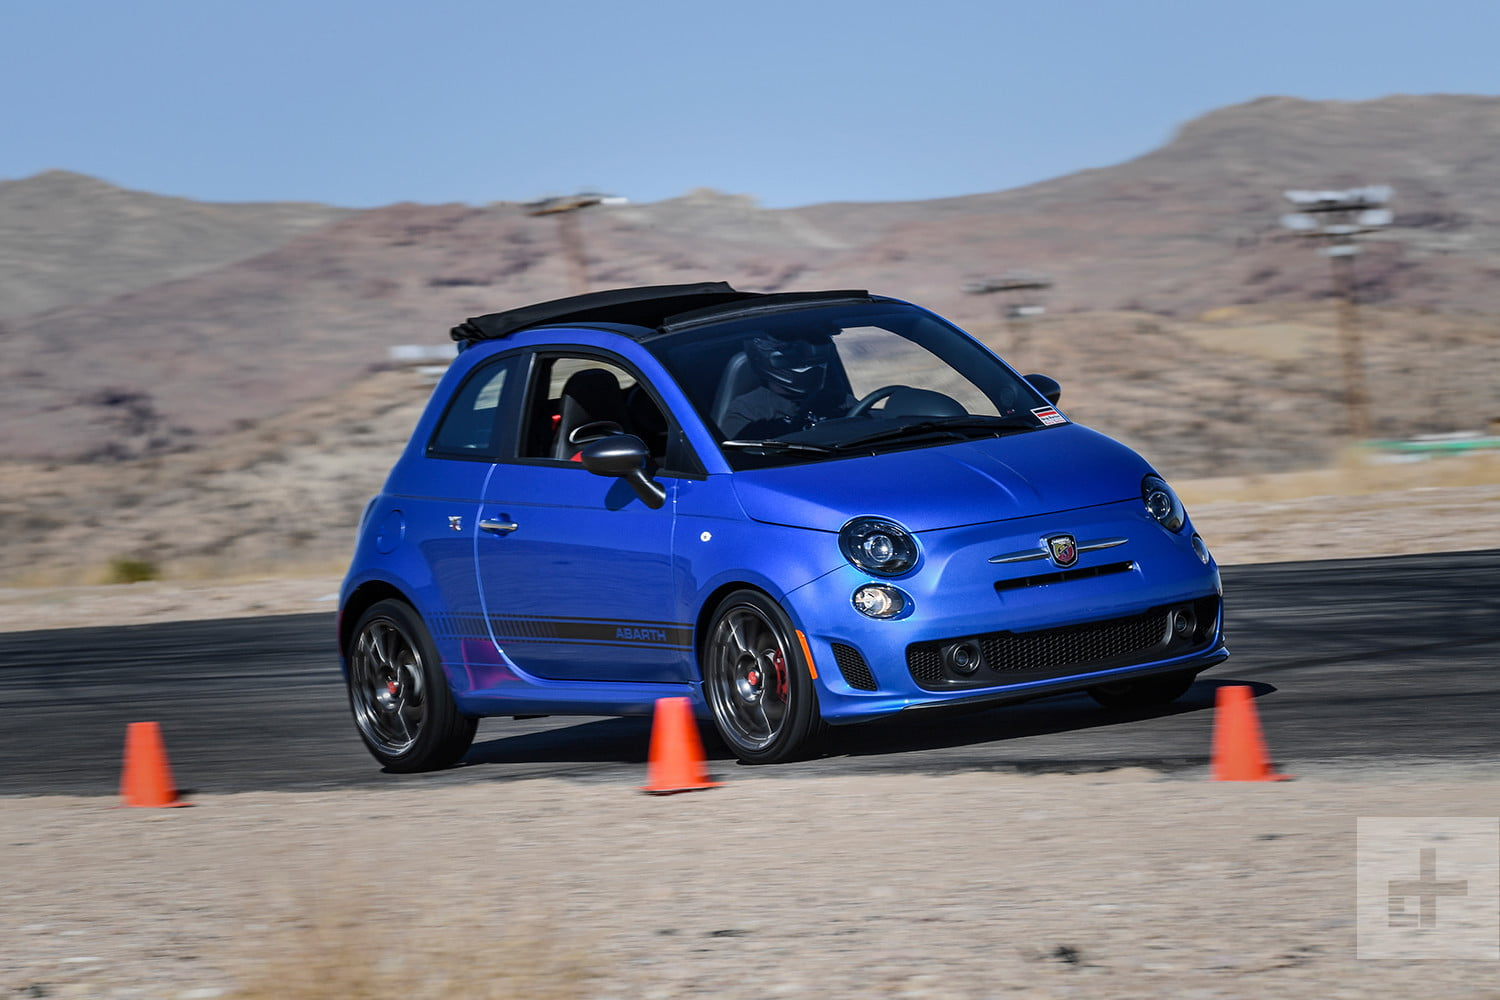car: (308, 283, 1227, 756)
